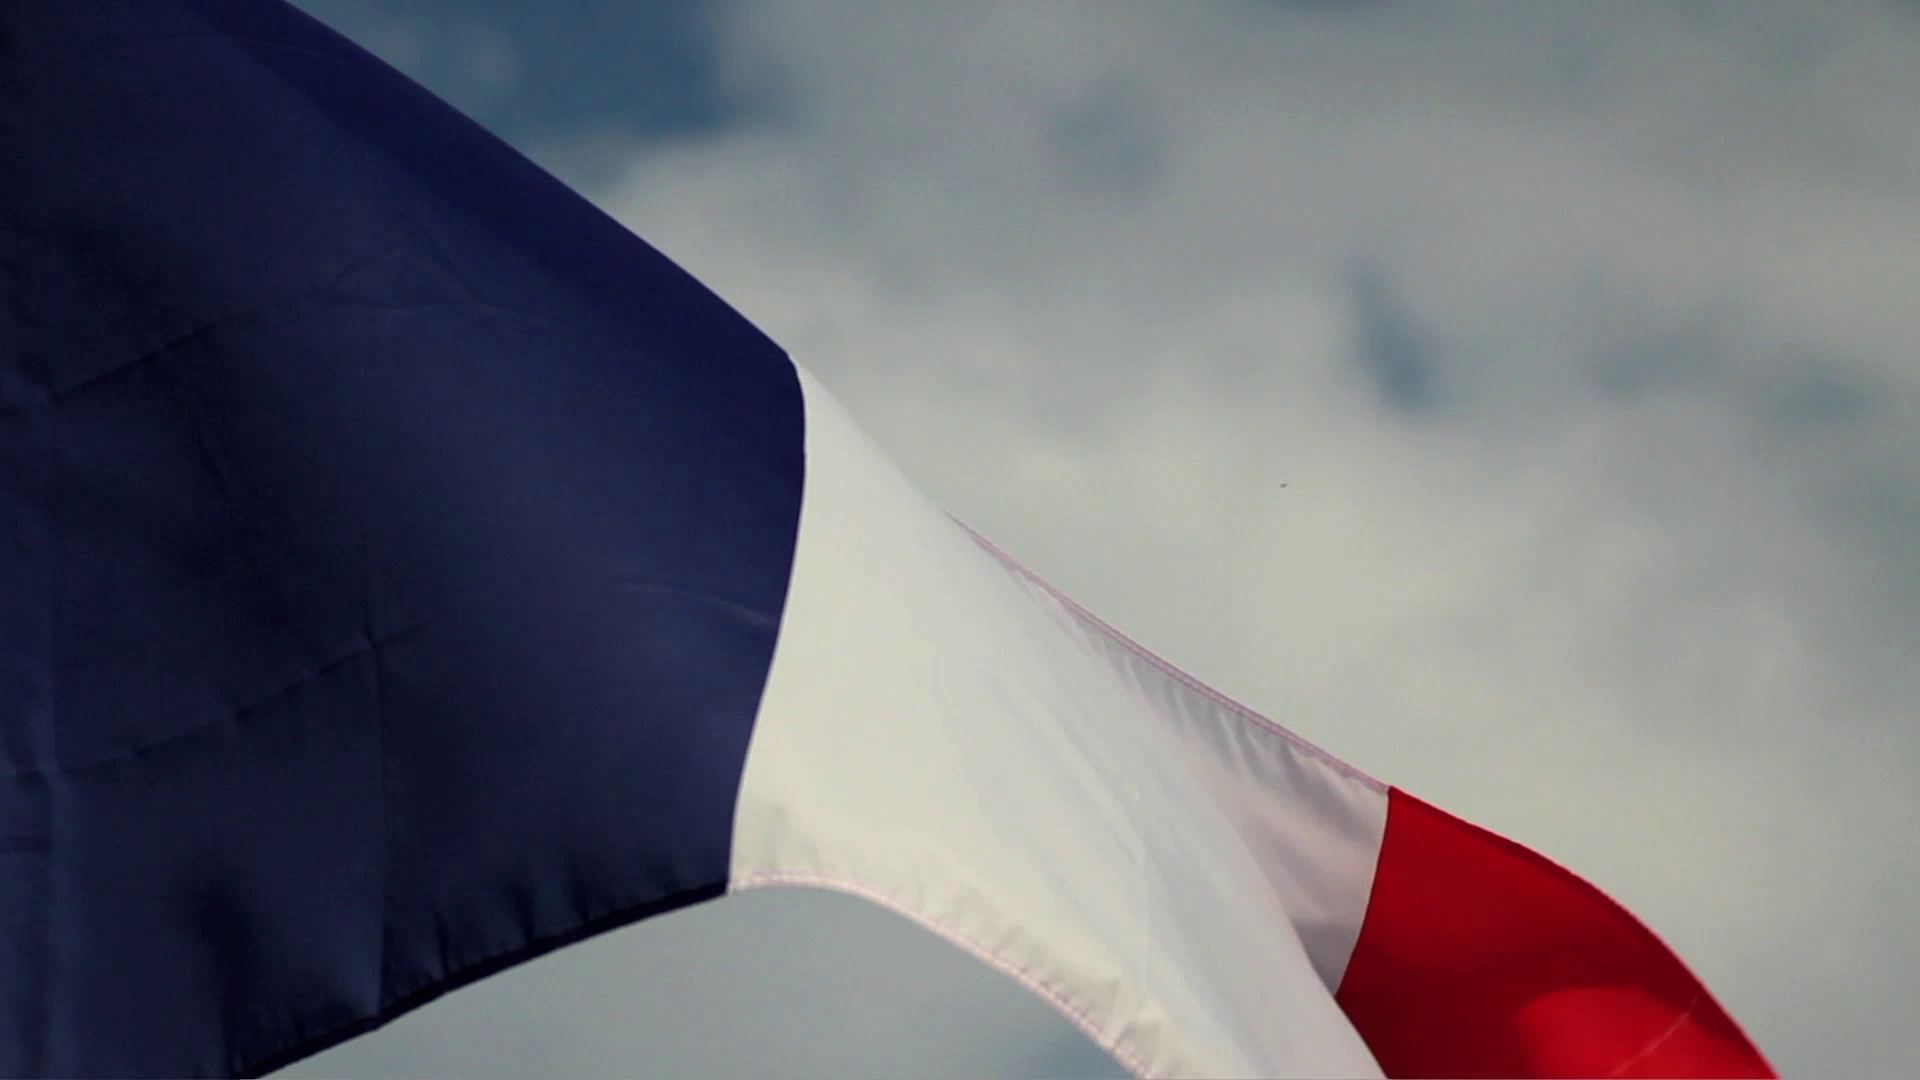French Flag: (1, 1, 1788, 1080)
